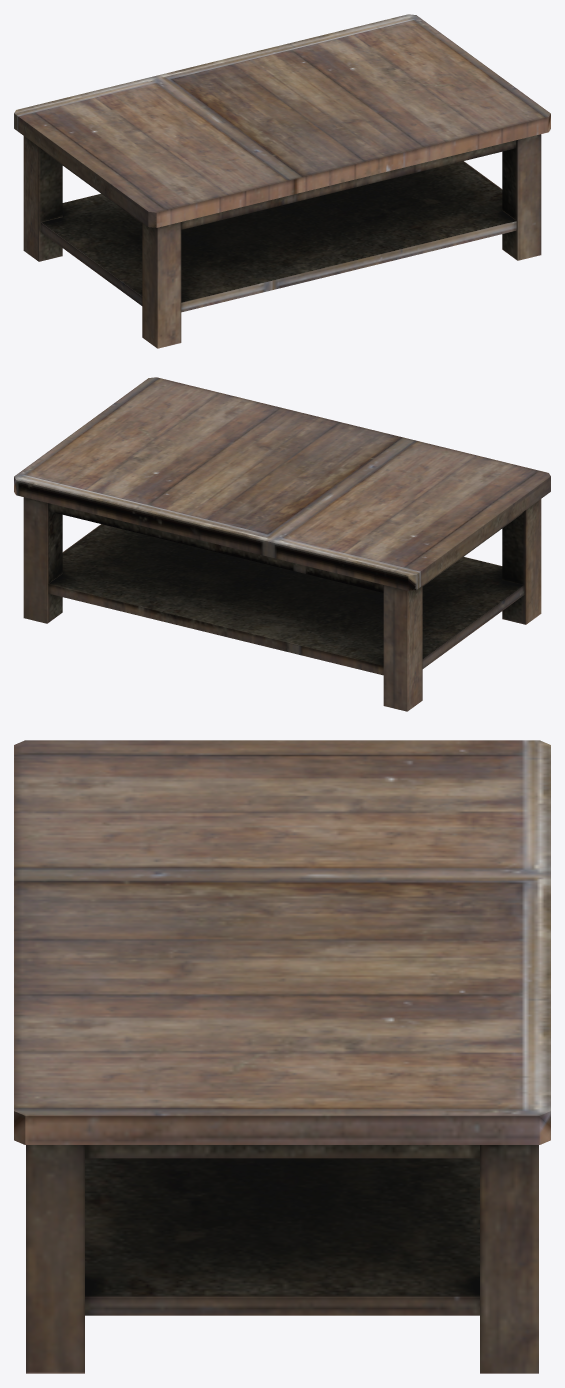
The model's file is Teapoy.FBX.
3 views of the same model, one above another, from view 1: azimuth 30°, elevation 25°; view 2: azimuth 150°, elevation 25°; view 3: azimuth 270°, elevation 25° (orthographic). The views are drawn at different scales.
Parts seen in each view (by area): view 1: Teapoy; view 2: Teapoy; view 3: Teapoy.
Boxes of the visible parts, x1,y1,x2,y2 form: Teapoy: (14,14,550,348); Teapoy: (14,377,550,711); Teapoy: (14,740,550,1373).
Bounding box in the file's own units: 157 × 51.95 × 94.85.
